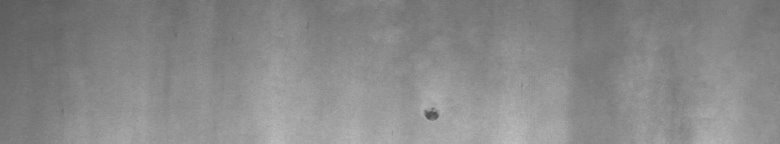fi: (420, 104, 444, 128)
